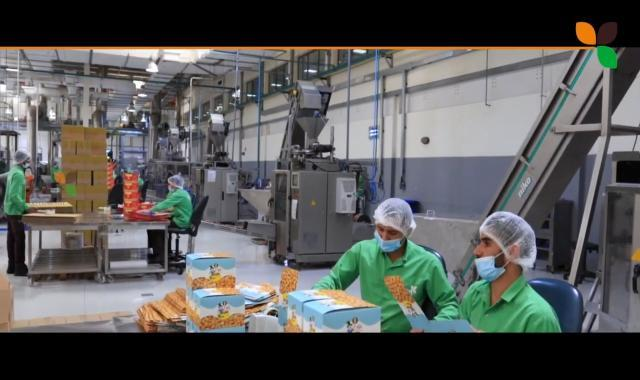Hairnet: (478, 211, 540, 268), (373, 198, 414, 236), (166, 171, 189, 191)
Mask: (468, 242, 532, 282), (374, 231, 406, 254)
No_Apron: (371, 237, 426, 333), (431, 339, 434, 340)
